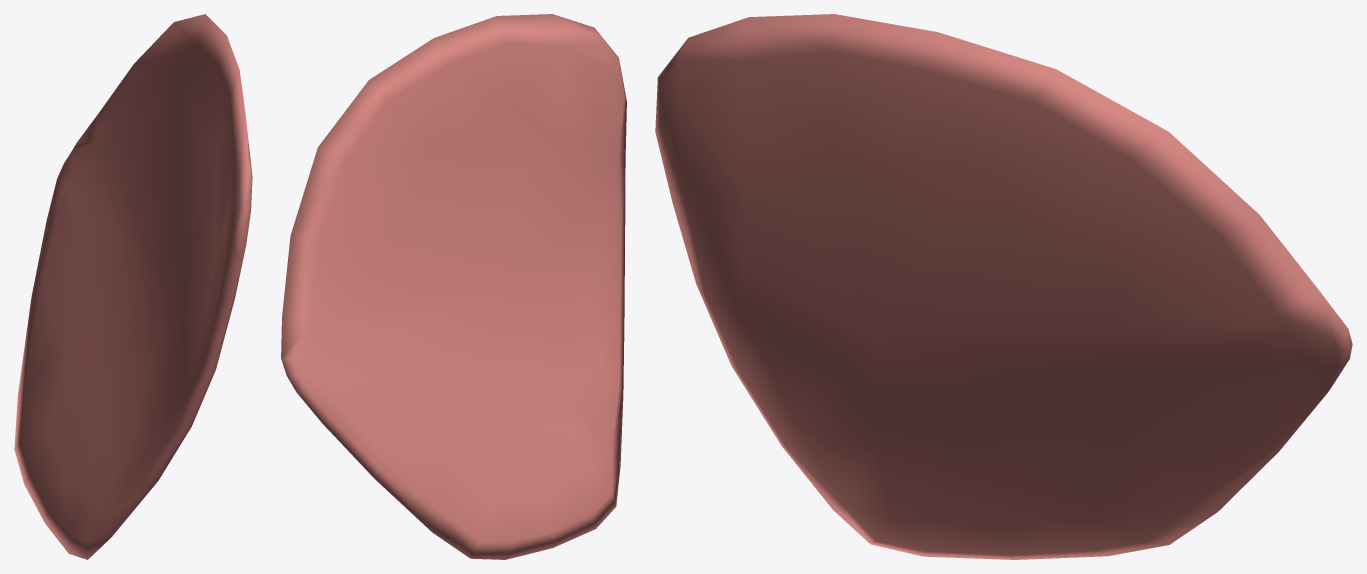
3 views of the same model, side by side, from view 1: azimuth 30°, elevation 25°; view 2: azimuth 150°, elevation 25°; view 3: azimuth 270°, elevation 25° (orthographic). The views are drawn at different scales.
Parts seen in each view (by area): view 1: ZA_6467272dc07bceac; view 2: ZA_6467272dc07bceac; view 3: ZA_6467272dc07bceac.
Part boxes in pixels (x1,y1,x2,y2): ZA_6467272dc07bceac: [14, 14, 252, 559]; ZA_6467272dc07bceac: [281, 14, 626, 559]; ZA_6467272dc07bceac: [655, 14, 1352, 559].
Size of the model in its own units: 0.0054 by 0.0124 by 0.0124.
